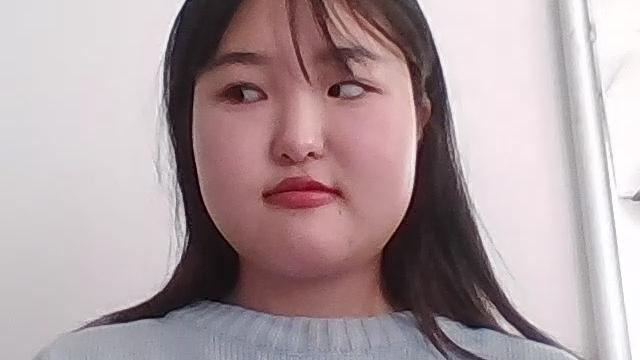eye: (223, 87, 244, 106), (322, 84, 339, 100)
iris: (225, 83, 267, 104), (329, 81, 366, 98)
